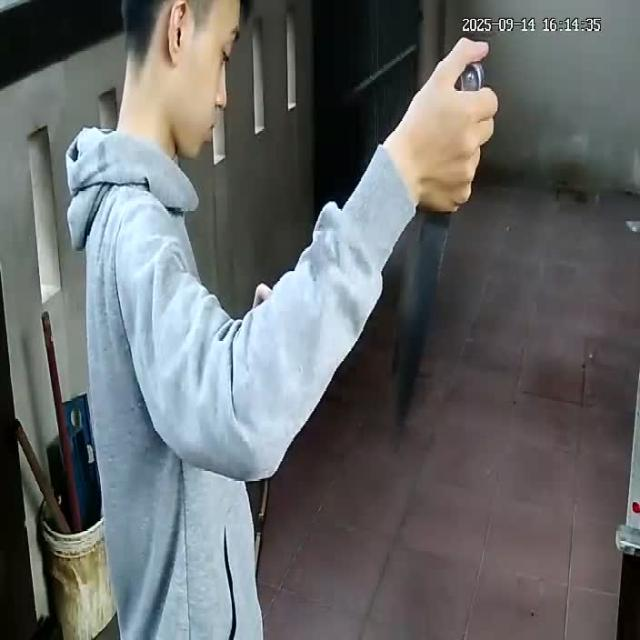senjata_tajam: (391, 212, 457, 462)
